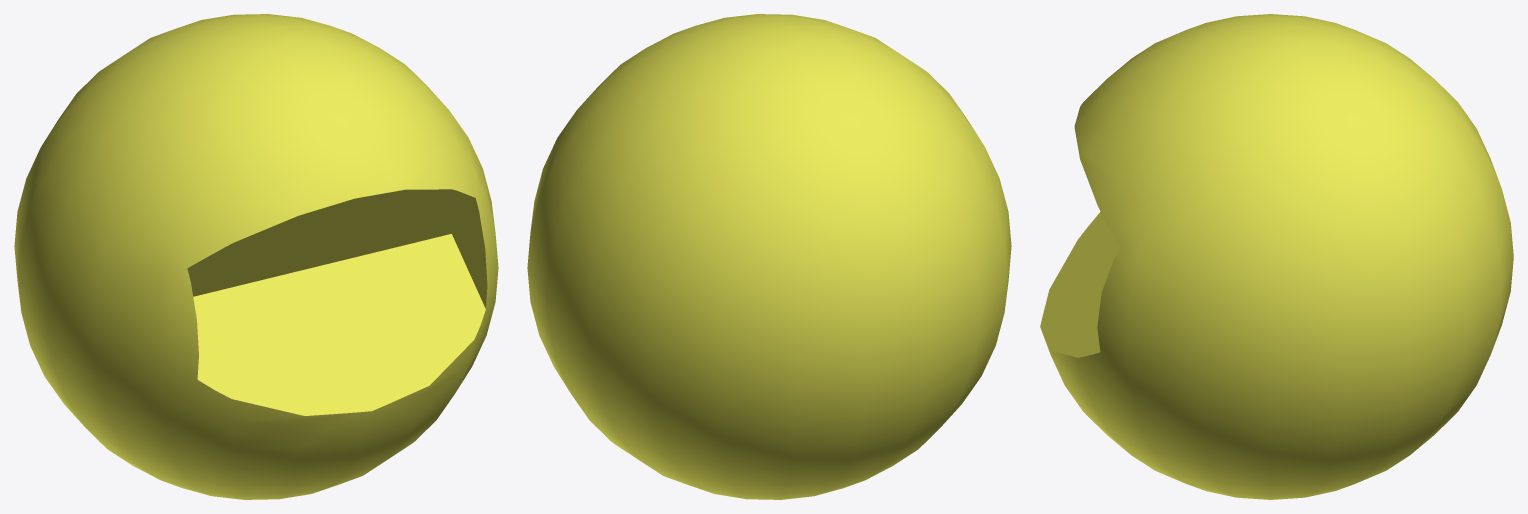
File: Enemy.fbx
The picture shows the model from 3 angles, left to right: view 1: azimuth 30°, elevation 25°; view 2: azimuth 150°, elevation 25°; view 3: azimuth 270°, elevation 25°; orthographic projection.
Parts seen in each view (by area): view 1: polySurface1; view 2: polySurface1; view 3: polySurface1.
Boxes of the visible parts, x1=… form: polySurface1: x1=14, y1=14, x2=498, y2=499; polySurface1: x1=527, y1=14, x2=1011, y2=499; polySurface1: x1=1040, y1=14, x2=1513, y2=499.
Bounding box in the file's own units: 2 × 2 × 1.95.
